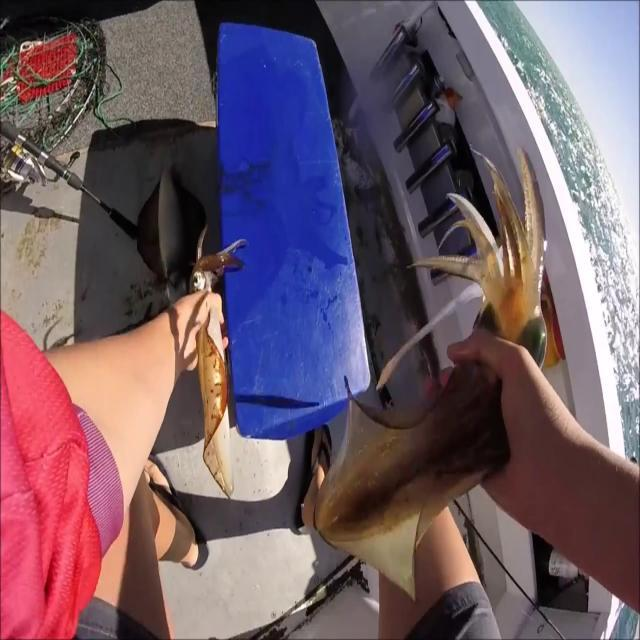SQUID: (273, 140, 575, 615), (185, 214, 288, 534)
